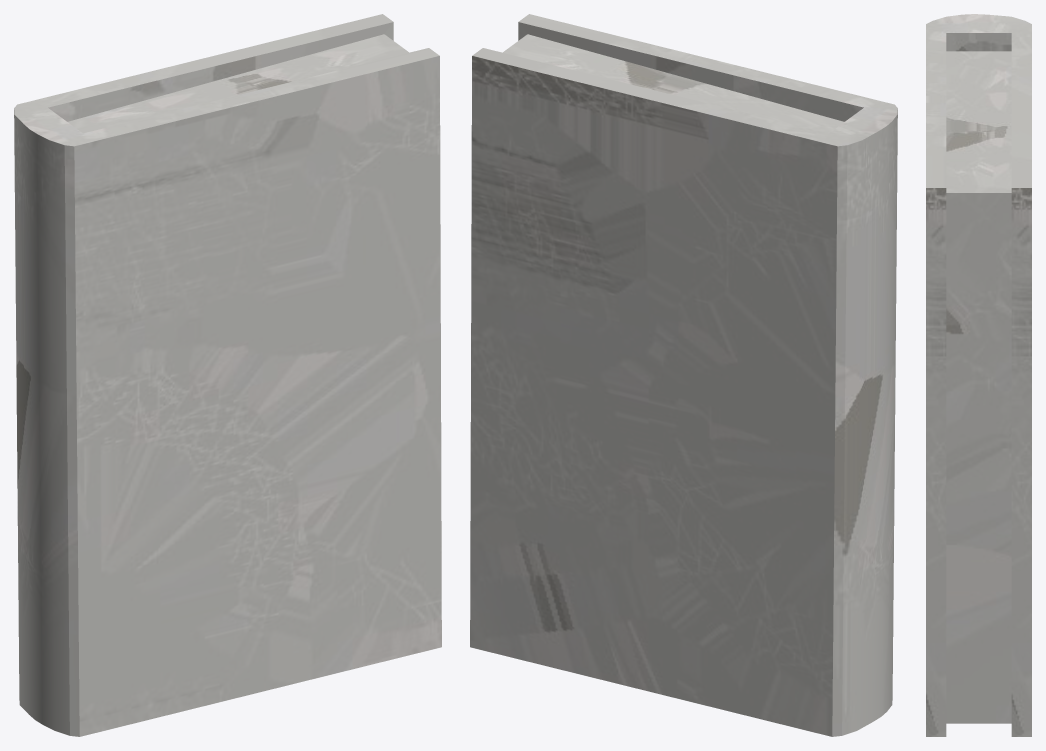
The model's file is 2book.fbx.
3 renders of one model, left to right at view 1: azimuth 30°, elevation 25°; view 2: azimuth 150°, elevation 25°; view 3: azimuth 270°, elevation 25°, orthographic. The views are drawn at different scales.
Visible parts, largest first — view 1: defaultMaterial.006; view 2: defaultMaterial.006; view 3: defaultMaterial.006.
Part boxes in pixels (<box>): defaultMaterial.006: <box>14,14,441,736</box>; defaultMaterial.006: <box>470,14,897,736</box>; defaultMaterial.006: <box>926,14,1031,736</box>.
Bounding box in the file's own units: 22.26 × 32.75 × 5.71.
